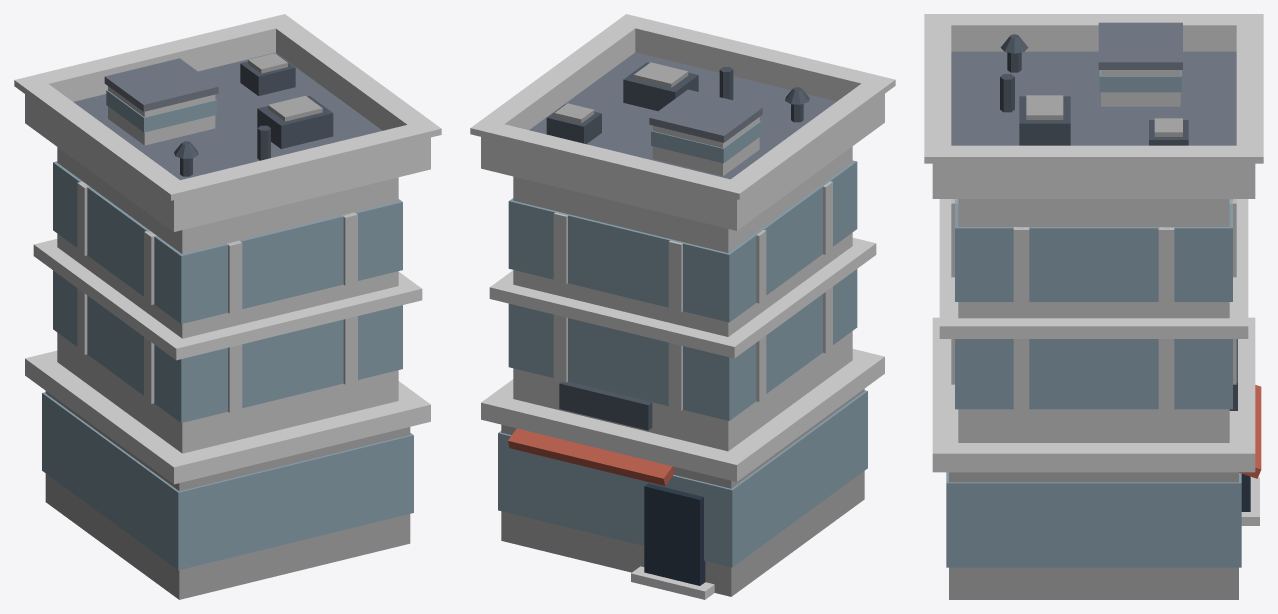
The model's file is building_small.glb.
The picture shows the model from 3 angles, left to right: view 1: azimuth 30°, elevation 25°; view 2: azimuth 150°, elevation 25°; view 3: azimuth 270°, elevation 25°; orthographic projection. The views are drawn at different scales.
Parts seen in each view (by area): view 1: building_small; view 2: building_small; view 3: building_small.
Part boxes in pixels (x1,y1,x2,y2): building_small: [14, 14, 441, 599]; building_small: [470, 14, 895, 599]; building_small: [924, 14, 1263, 599].
Bounding box in the file's own units: 7.14 × 11 × 7.16.
